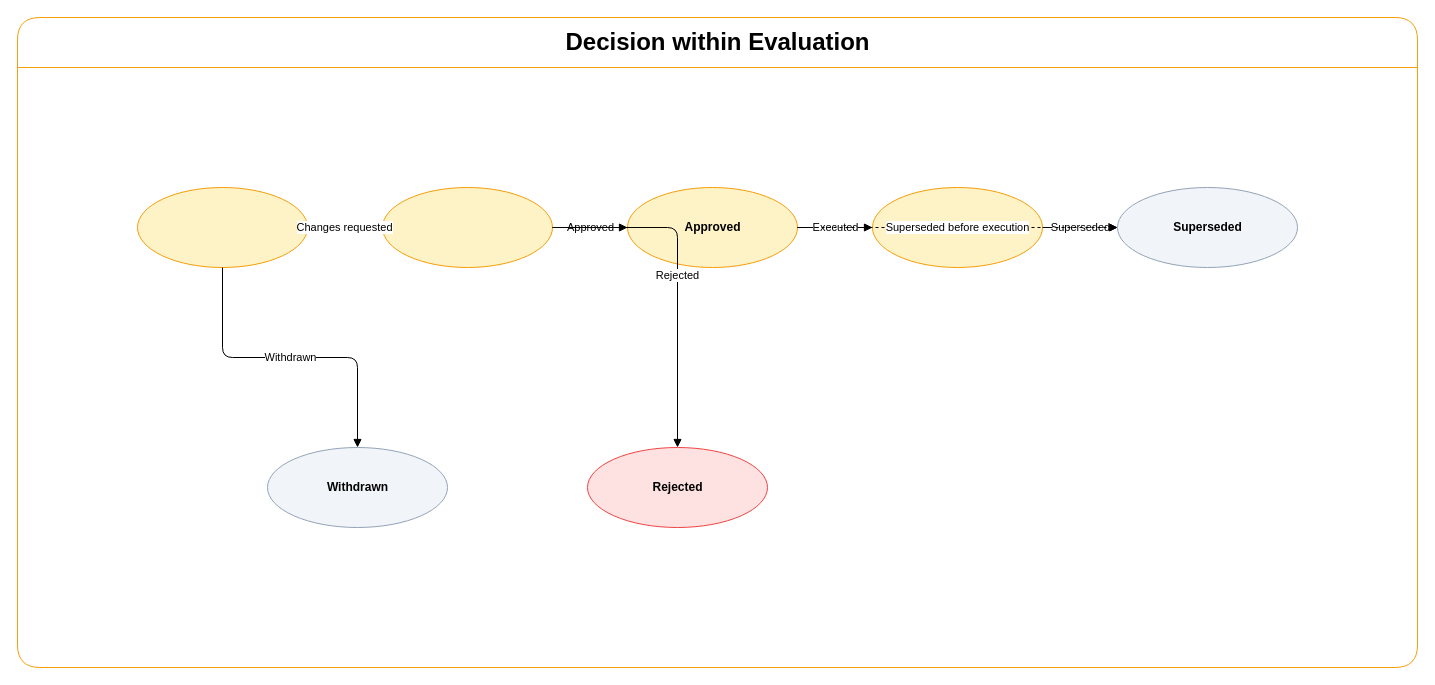
Some shapes in this 1435 by 685 pixel diagram are drawn without their labels. Here are the shapes that lost their labels. From the top down, the centre of each, then its label:
At [222,227]: "Draft".
At [467,227]: "Pending".
